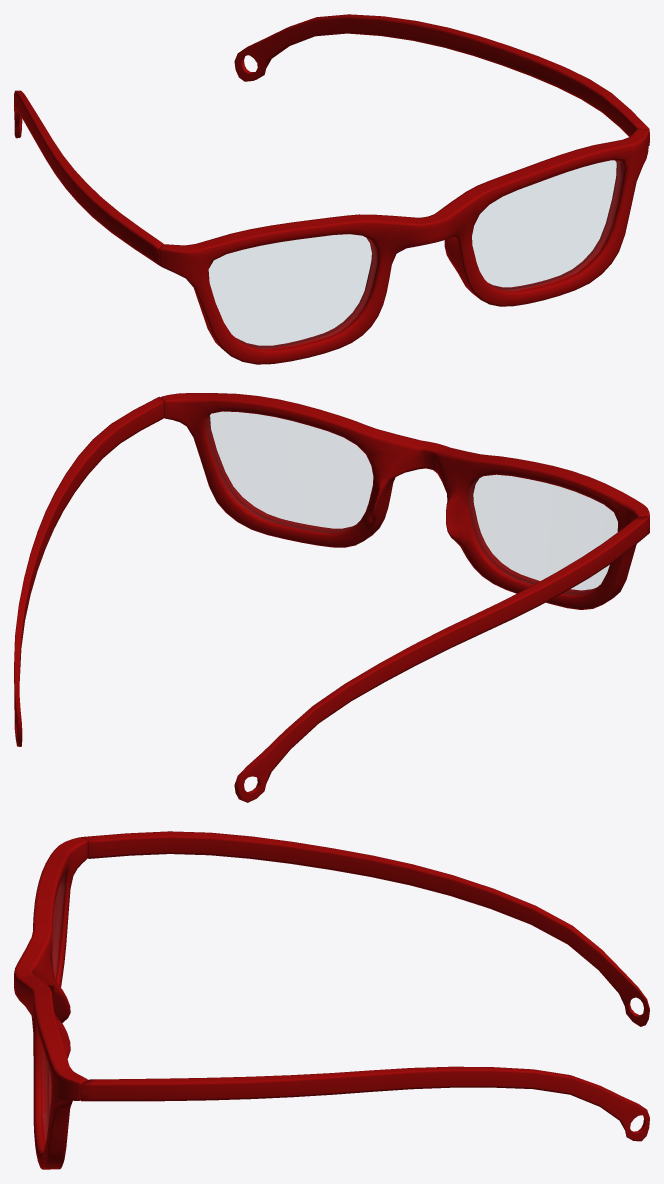
File: Modelo_1.fbx
3 views of the same model, one above another, from view 1: azimuth 30°, elevation 25°; view 2: azimuth 150°, elevation 25°; view 3: azimuth 270°, elevation 25° (orthographic). The views are drawn at different scales.
Visible parts, largest first — view 1: lentes_, Marco_1, Pata_izquierda_1, Pata_derecha_1; view 2: lentes_, Marco_1, Pata_derecha_1, Pata_izquierda_1; view 3: Pata_derecha_1, Pata_izquierda_1, Marco_1, lentes_.
Part boxes in pixels (left/top/right/bottom): lentes_: left=209, top=161, right=622, bottom=348; Marco_1: left=159, top=128, right=648, bottom=364; Pata_izquierda_1: left=234, top=14, right=649, bottom=145; Pata_derecha_1: left=14, top=90, right=163, bottom=264; lentes_: left=206, top=412, right=617, bottom=594; Marco_1: left=160, top=393, right=649, bottom=609; Pata_derecha_1: left=234, top=516, right=649, bottom=802; Pata_izquierda_1: left=14, top=396, right=163, bottom=746; Pata_derecha_1: left=81, top=831, right=649, bottom=1026; Pata_izquierda_1: left=80, top=1066, right=649, bottom=1141; Marco_1: left=14, top=837, right=87, bottom=1169; lentes_: left=43, top=874, right=64, bottom=1137.
Size of the model in its own units: 19.95 by 4.99 by 21.26.
